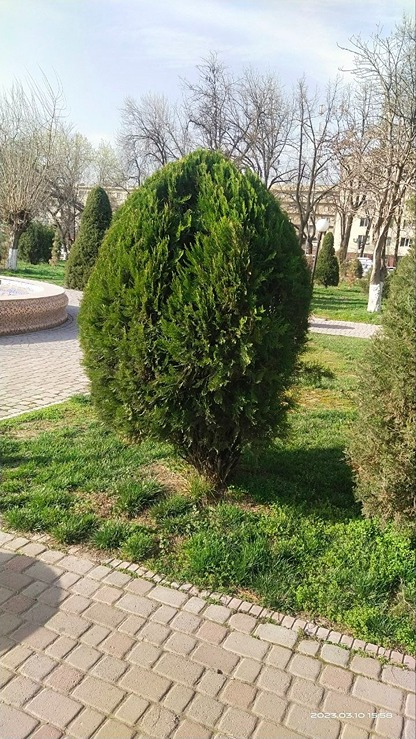tree: (44, 157, 311, 468), (340, 13, 416, 309), (3, 71, 55, 275), (69, 186, 108, 283), (309, 227, 347, 293)
